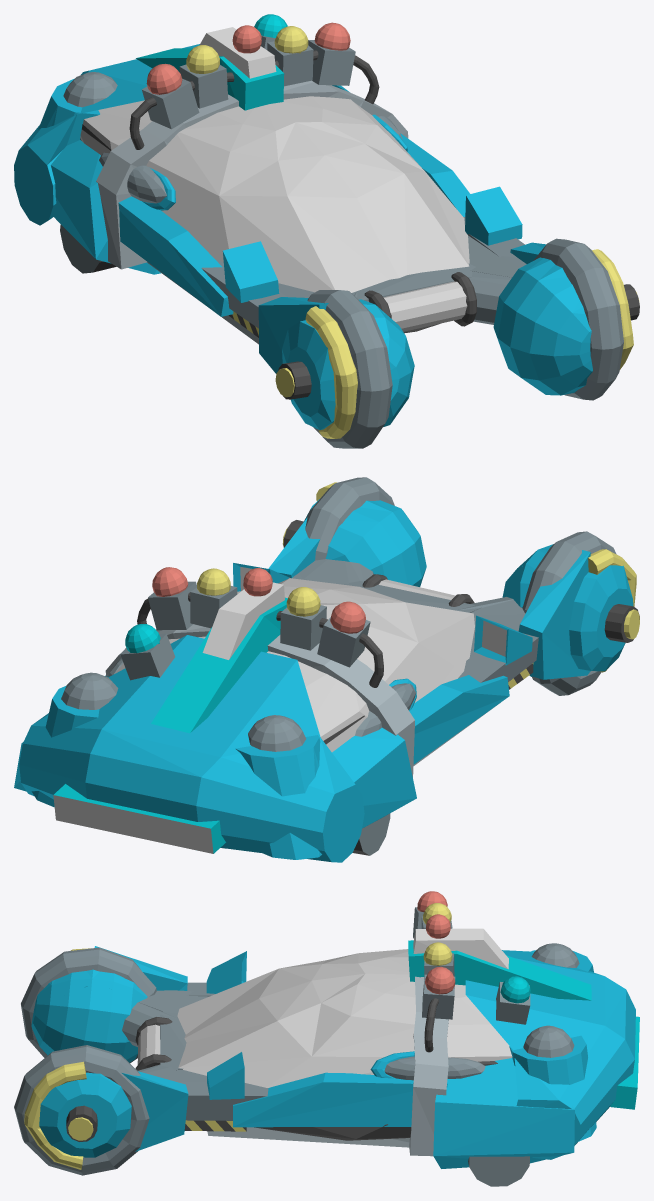
Rendered from glider.fbx.
3 views of the same model, one above another, from view 1: azimuth 30°, elevation 25°; view 2: azimuth 150°, elevation 25°; view 3: azimuth 270°, elevation 25° (orthographic). The views are drawn at different scales.
Visible parts, largest first — view 1: mesh_1601816670; view 2: mesh_1601816670; view 3: mesh_1601816670.
Boxes of the visible parts, box(x1,y1,x2,y2) form: mesh_1601816670: box(14, 14, 639, 448); mesh_1601816670: box(14, 477, 639, 862); mesh_1601816670: box(14, 891, 639, 1186).
Bounding box in the file's own units: 27.04 × 18.2 × 49.36.
